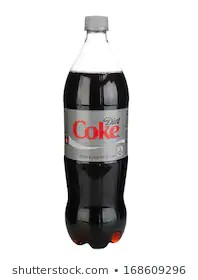coke-bottle-2l: (67, 13, 140, 249)
